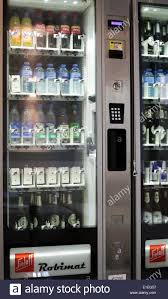redbull: (148, 160, 159, 183), (160, 161, 168, 184)
